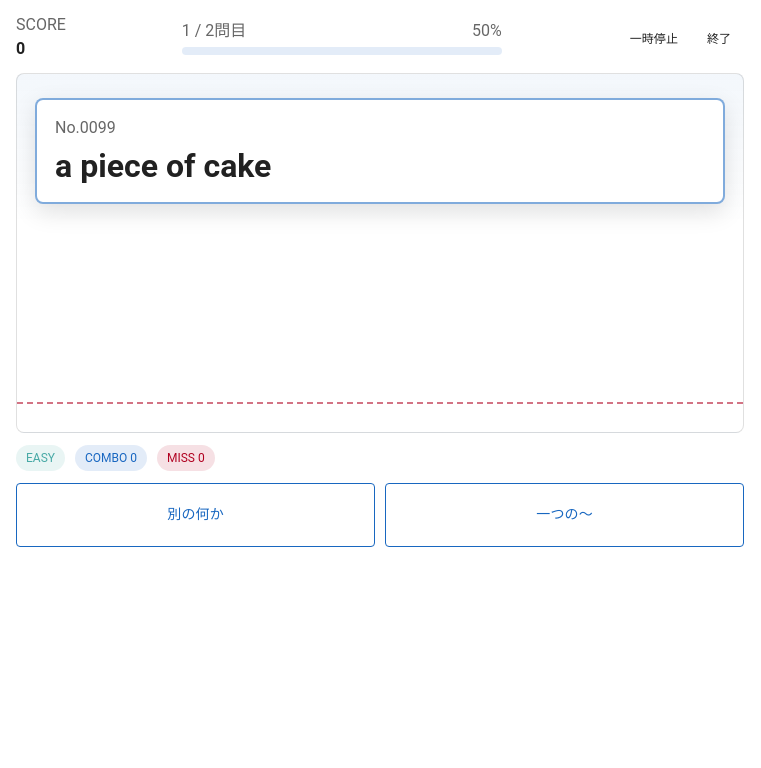
Test: GameView › 間違えた問題テーブル › 間違えた問題が完了画面の表に表示される
This screenshot has width=761, height=768.
Click the button "別の何か". click: (196, 515)
box: x1=16 y1=483 x2=375 y2=547
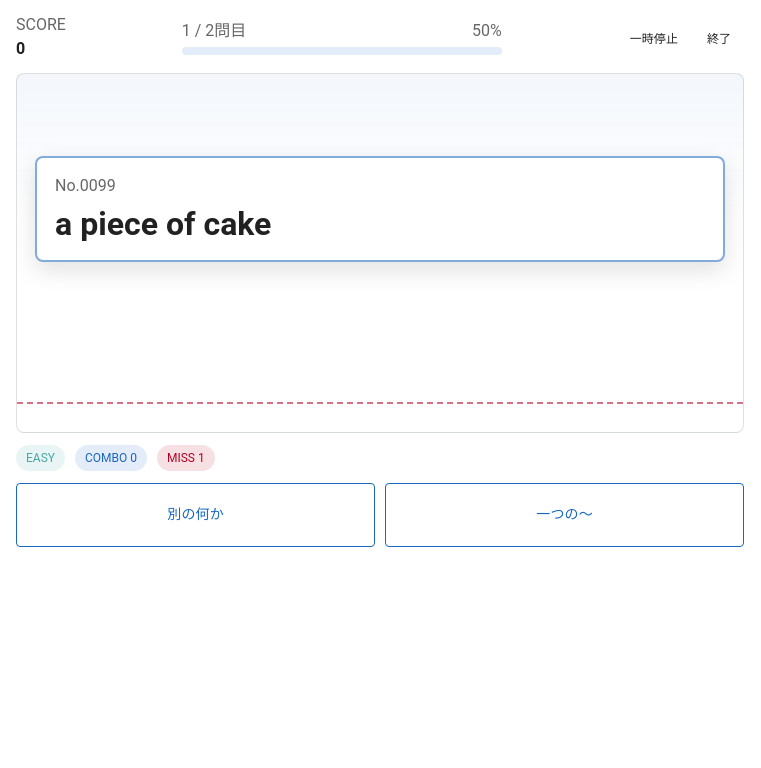
Click the button "別の何か". click: (196, 515)
box: x1=16 y1=483 x2=375 y2=547
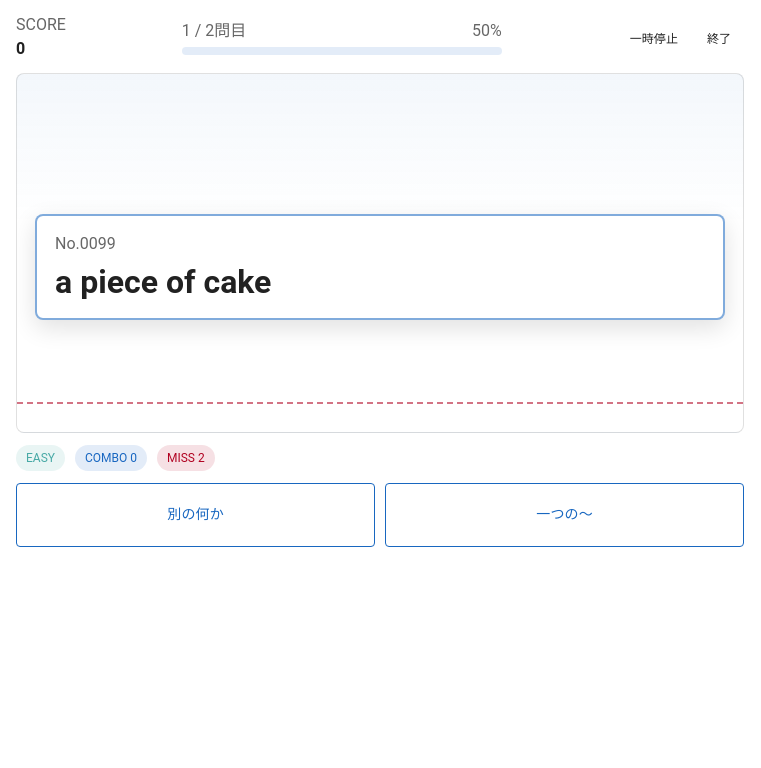
Click the button "別の何か". click: (196, 515)
box: x1=16 y1=483 x2=375 y2=547
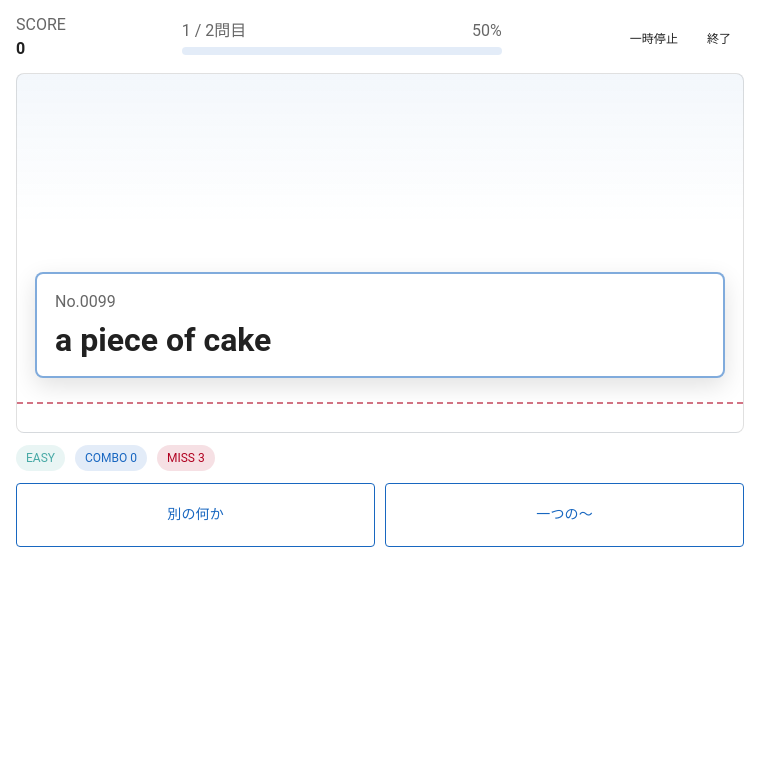
Click the button "別の何か". click: (196, 515)
box: x1=16 y1=483 x2=375 y2=547
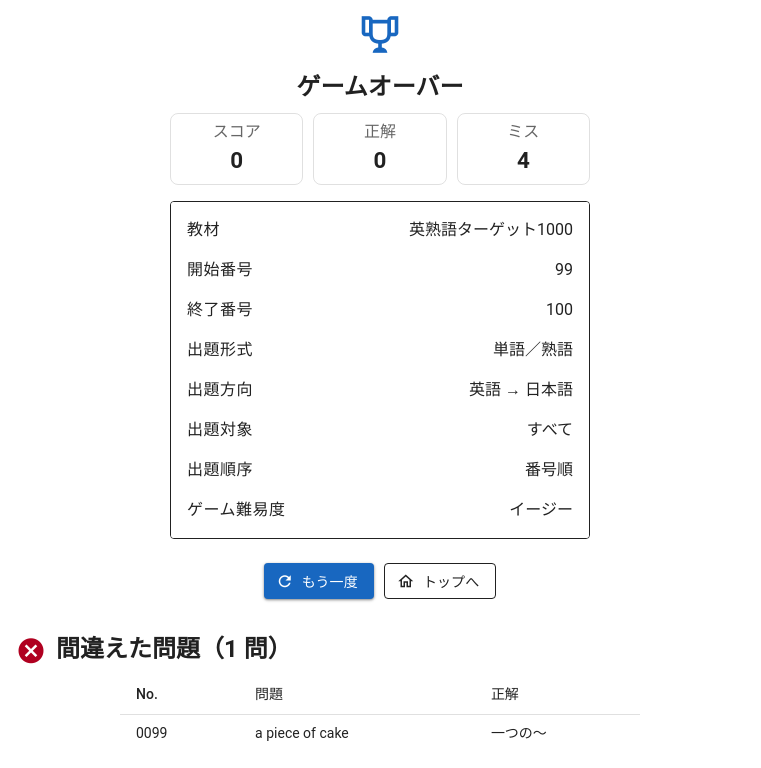
Expected: the text "a piece of cake" is shown, x1=239 y1=715 x2=475 y2=751
Expected: the text "ゲームオーバー" is shown, x1=296 y1=69 x2=464 y2=105
Expected: the text "間違えた問題" is shown, x1=50 y1=635 x2=292 y2=663
